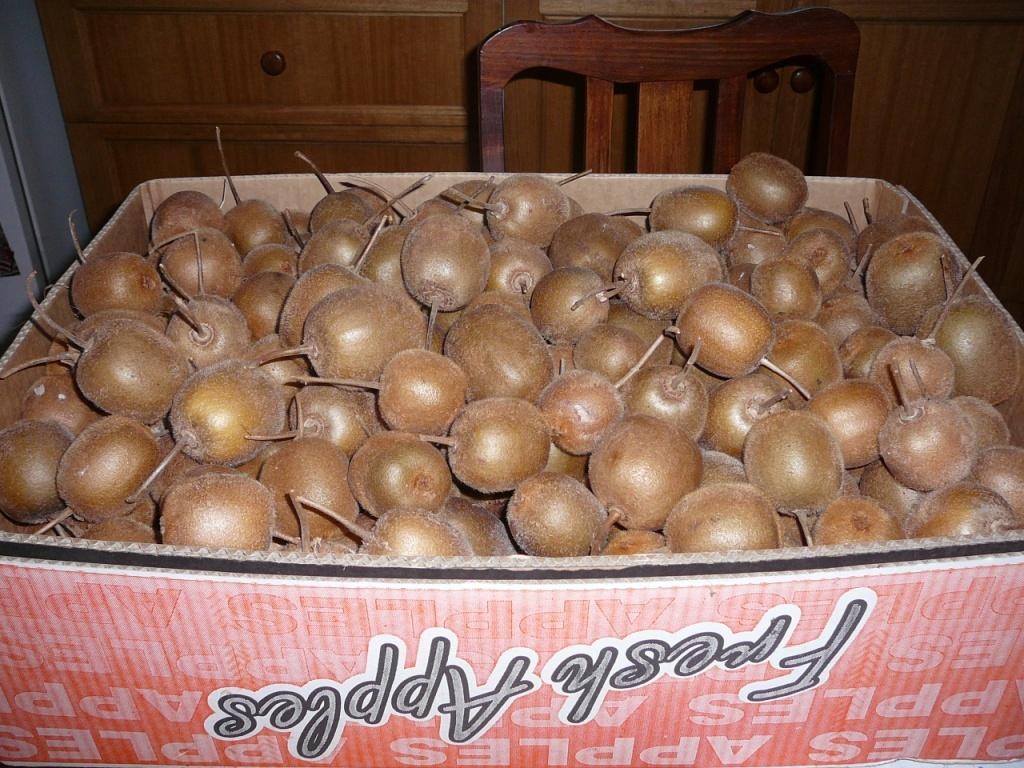kiwi: (162, 254, 735, 535)
